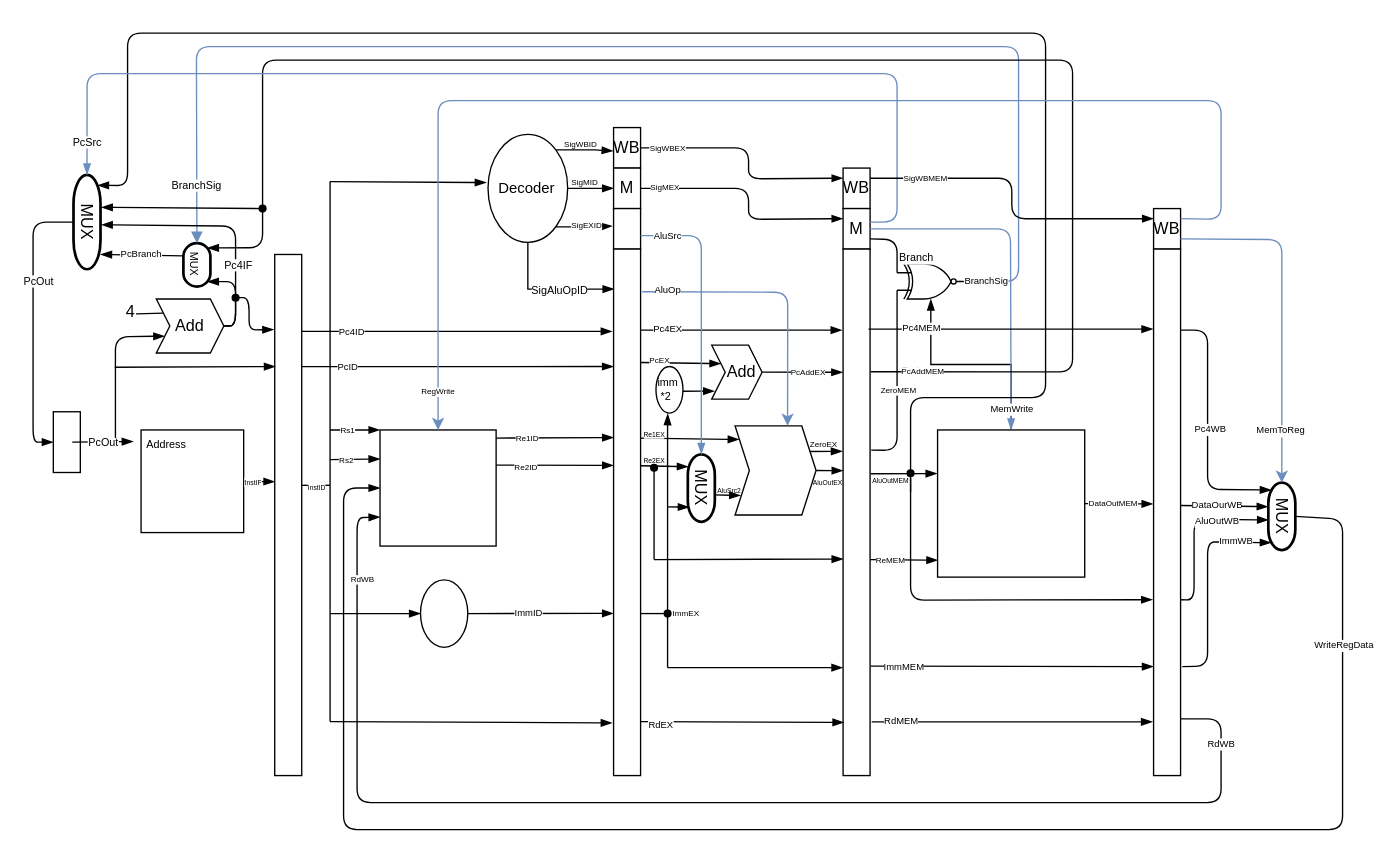
Image size: 1396x864. Some labels were removed from this diagram. Here are the shapes that lost their labels. From the top down, the box of each, then its label:
(612, 207, 641, 249): EX
(52, 410, 80, 473): PC
(140, 429, 244, 533): ROM
(379, 429, 496, 546): Register
(734, 425, 816, 515): ALU
(936, 429, 1085, 577): RAM
(419, 578, 468, 647): Imm Gen
